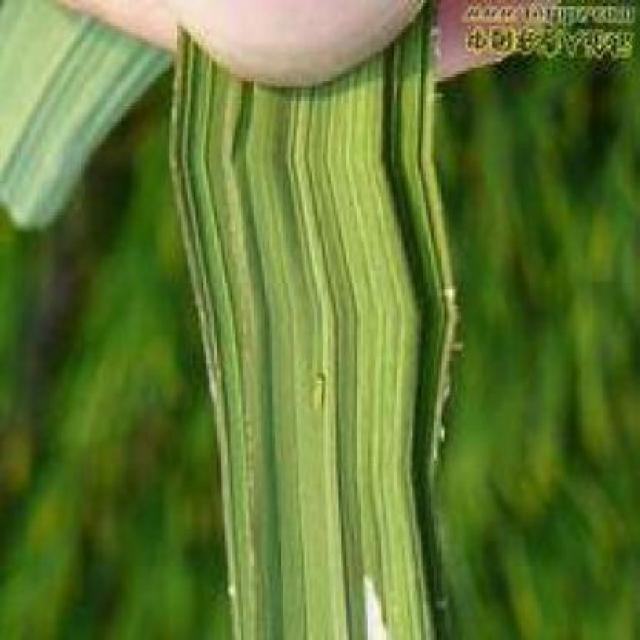leaf-folder: (303, 346, 345, 428)
